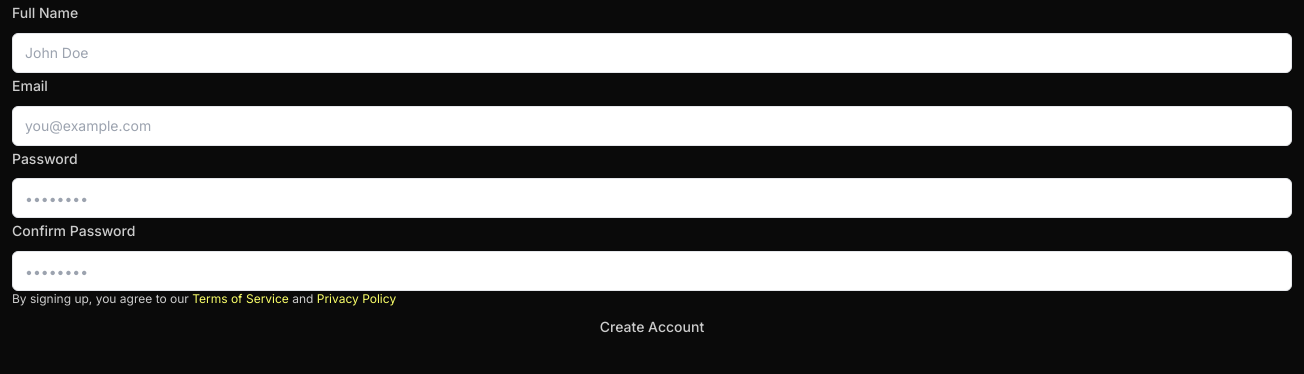
Scenario: SignUpForm inline validation (#162) › rejects a password shorter than the schema requires
Type "Ada Lovelace" into the field labelled "Full Name" at (652, 53), box [12,33,1292,73]
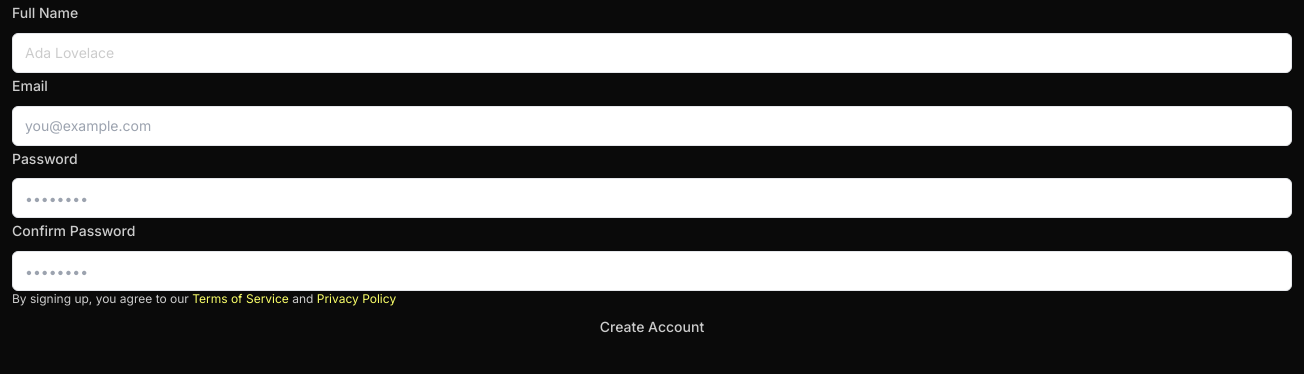
Type "ada@example.com" into the field labelled "Email" at (652, 126), box [12,106,1292,146]
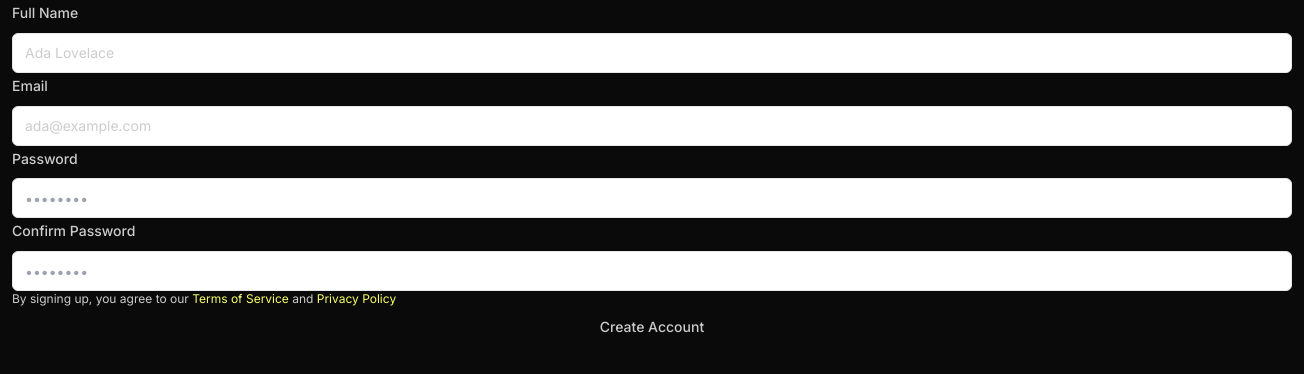
Type "short1" into the password field labelled "Password" at (652, 198), box [12,178,1292,218]
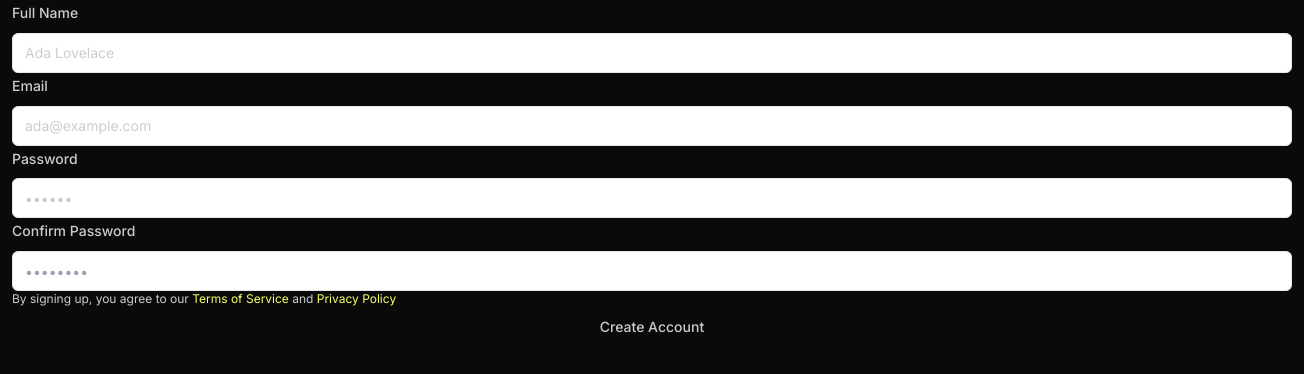
Type "short1" into the password field labelled "Confirm Password" at (652, 271), box [12,251,1292,291]
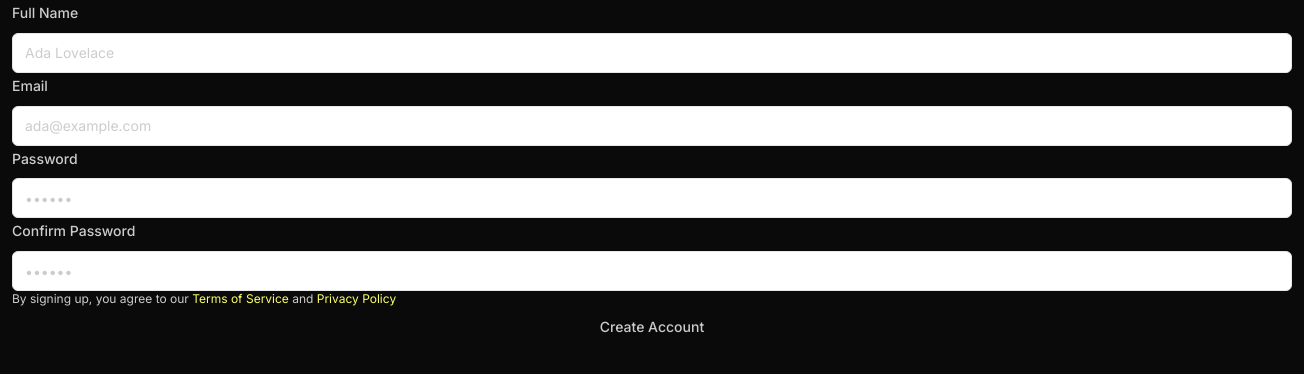
Submit the form
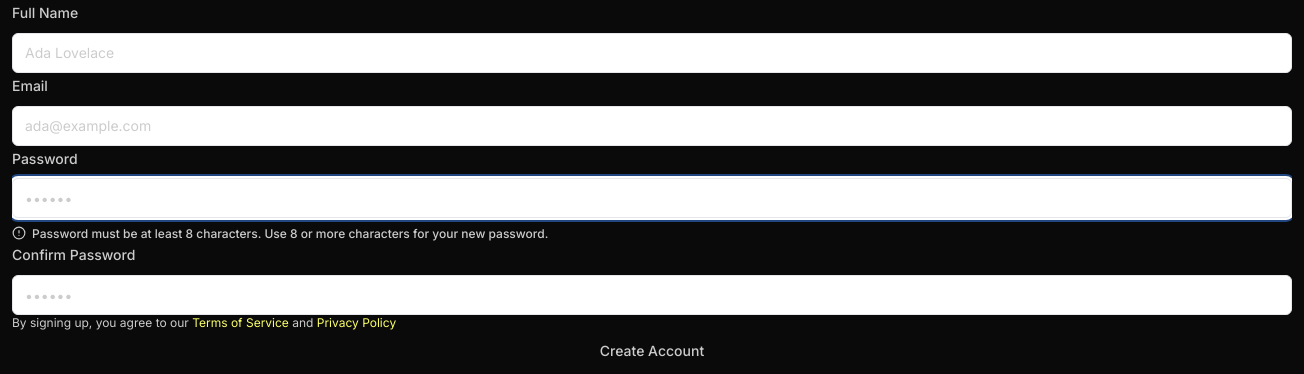
Check: the number of messages is 1, box [12,226,548,241]
Check: the message shows "Password must be at least 8 characters. Use 8 or more characters for your new password.", box [32,226,548,241]
